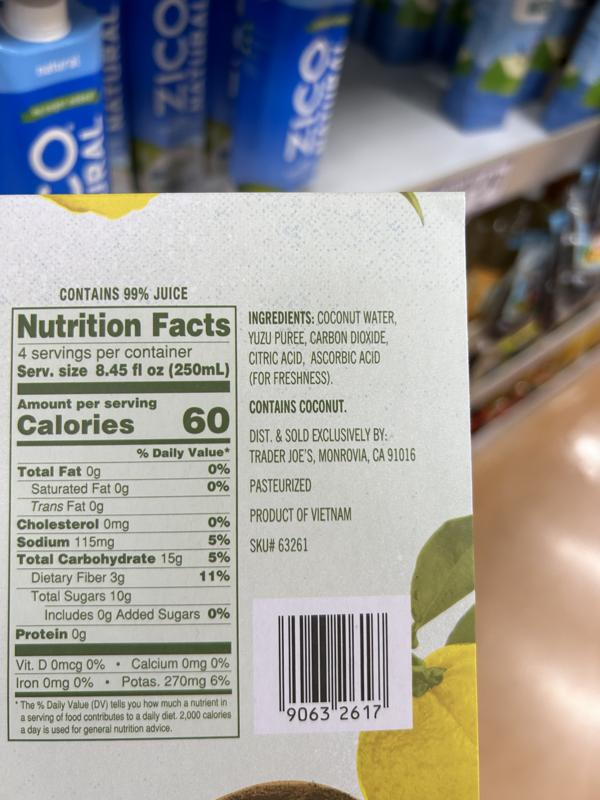ingredients: (247, 308, 396, 388)
